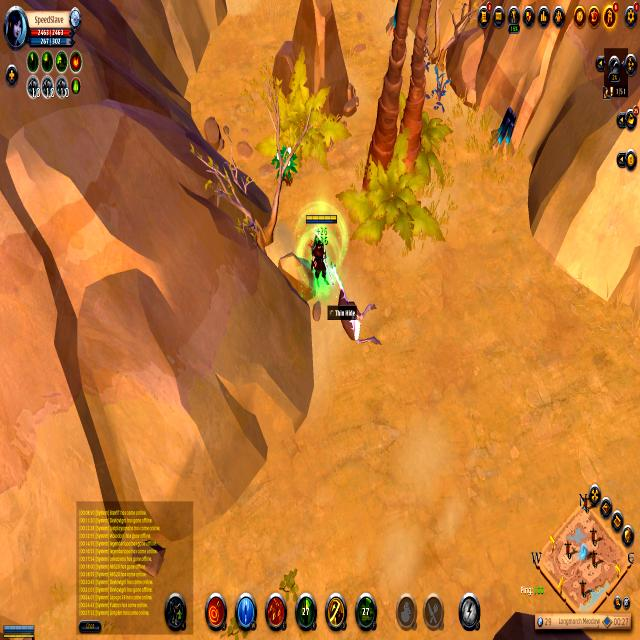hide: (266, 135, 303, 195)
mob: (327, 258, 387, 361)
player: (489, 101, 521, 162), (384, 0, 402, 39)
